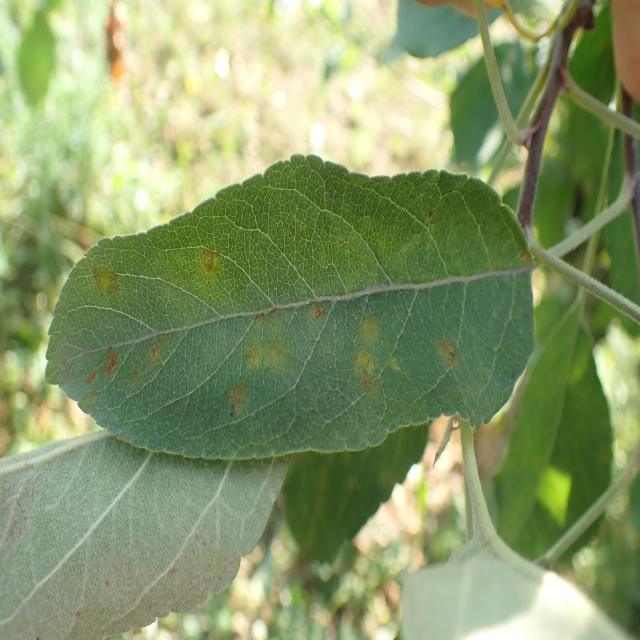scab: (72, 210, 506, 435)
